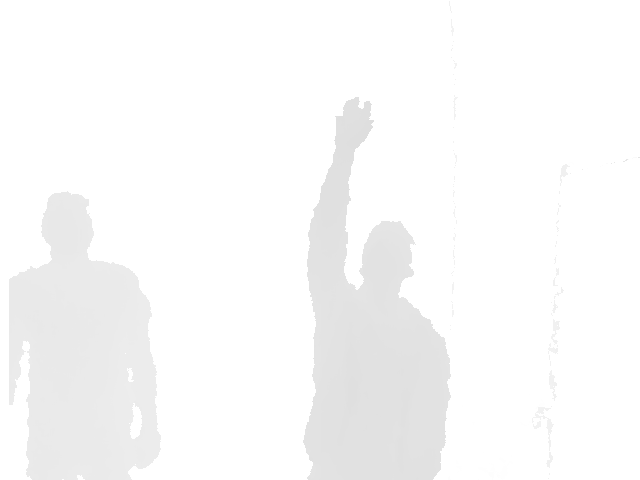hand: (334, 96, 374, 150)
head: (359, 220, 414, 296), (41, 190, 94, 263)
person: (301, 95, 452, 480), (9, 190, 162, 480)
